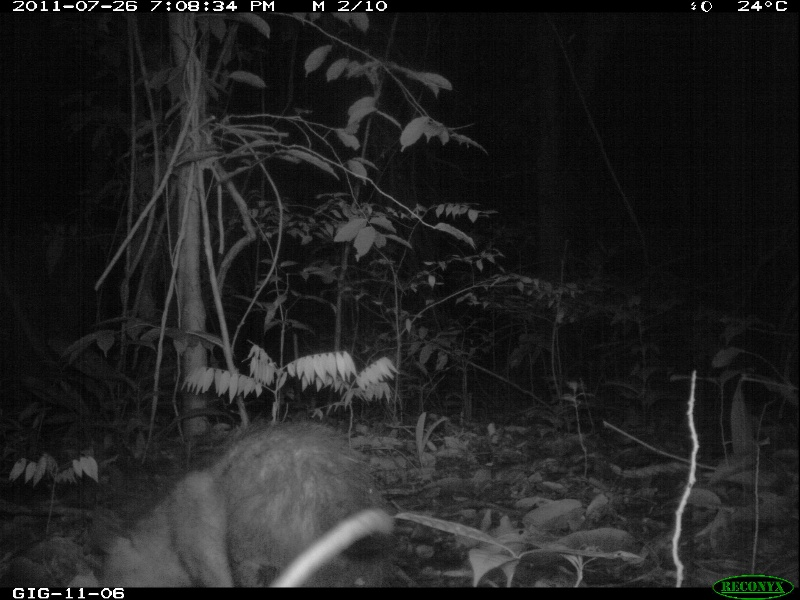opossum: (98, 420, 402, 587)
